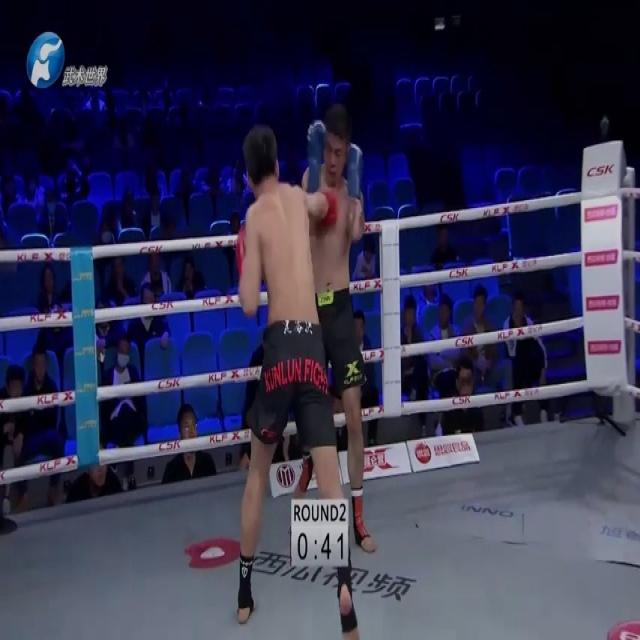fight: (222, 99, 372, 637)
